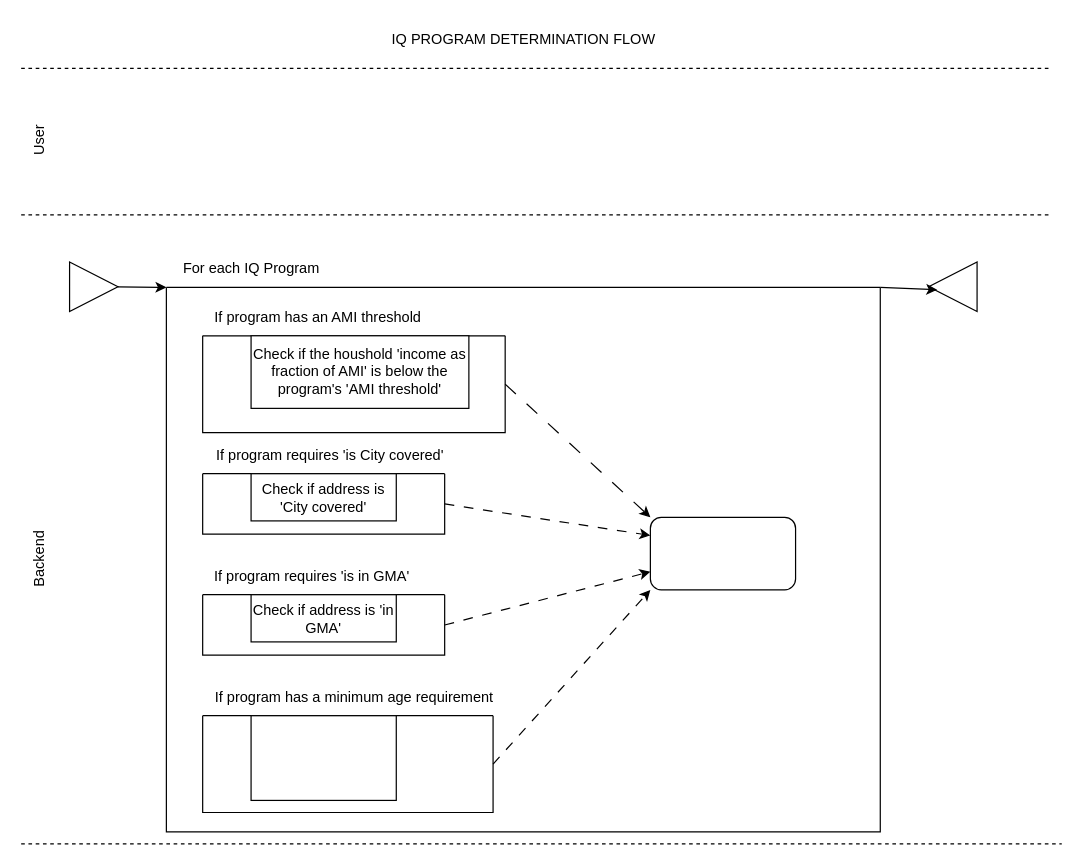
Image size: 1084x866. Some labels were removed from this diagram. Each missing label, with the box of its shape:
Add program to user dashboard as 'available program': (649, 516, 796, 590)
Check if any household member is above the age requirement: (250, 715, 396, 800)
